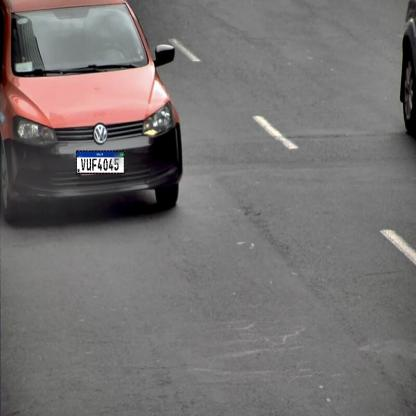PlacaM: (76, 150, 125, 174)
